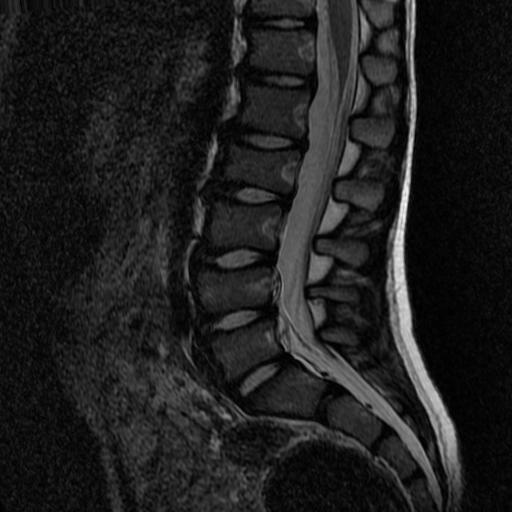D1: (221, 118, 309, 155)
